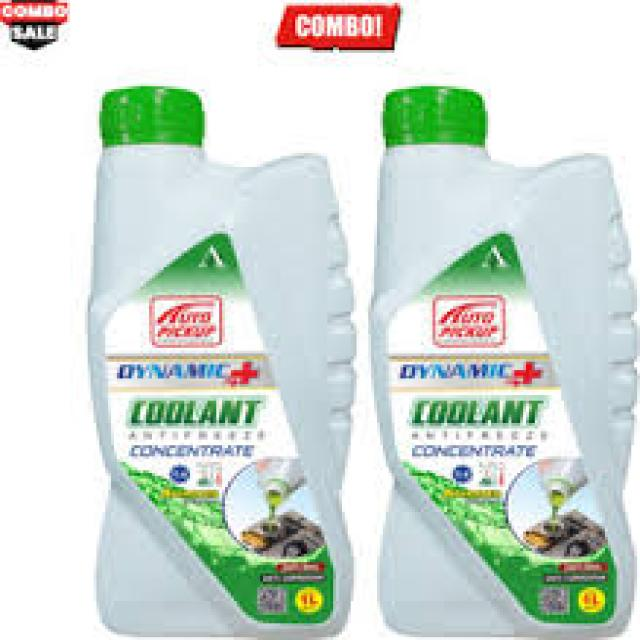coolant: (81, 82, 360, 640), (372, 76, 640, 640)
